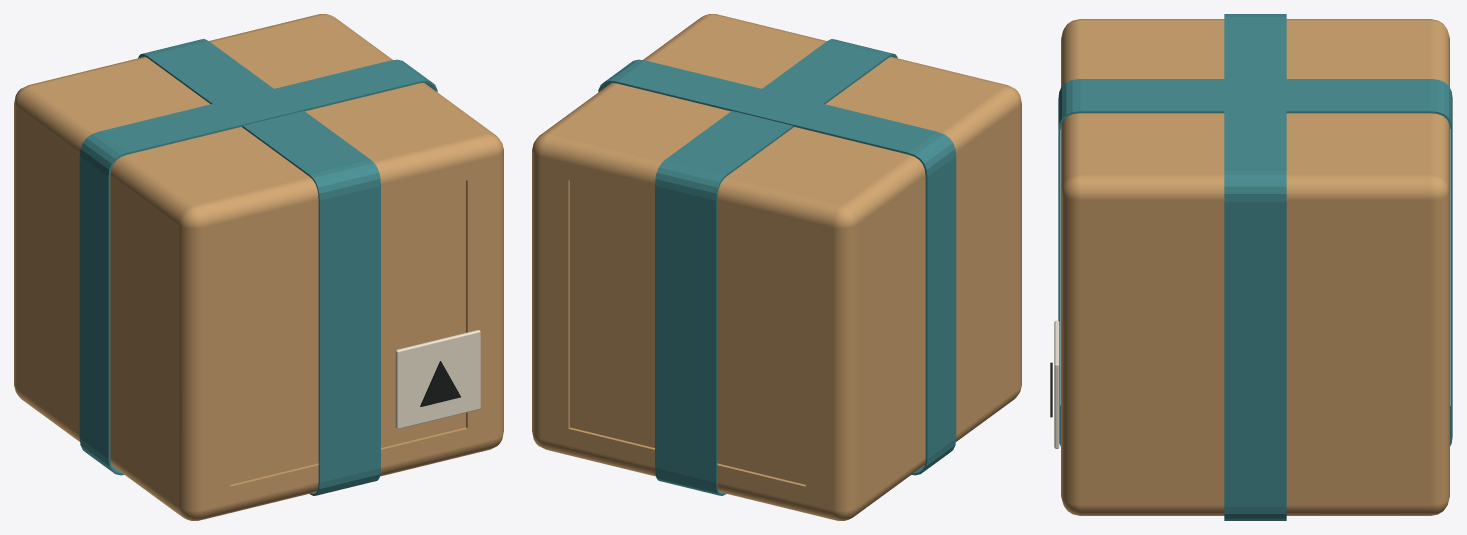
File: play-parcel-small-teal.glb
The picture shows the model from 3 angles, left to right: view 1: azimuth 30°, elevation 25°; view 2: azimuth 150°, elevation 25°; view 3: azimuth 270°, elevation 25°; orthographic projection. The views are drawn at different scales.
Visible parts, largest first — view 1: Parcel_Carton, Parcel_Tape_Continuous_Front_Back, Parcel_Tape_Continuous_Left_Right, Parcel_Paper_Label, Parcel_Label_Triangle; view 2: Parcel_Carton, Parcel_Tape_Continuous_Front_Back, Parcel_Tape_Continuous_Left_Right; view 3: Parcel_Carton, Parcel_Tape_Continuous_Left_Right, Parcel_Tape_Continuous_Front_Back, Parcel_Paper_Label.
Boxes of the visible parts, x1,y1,x2,y2 form: Parcel_Carton: [14, 14, 503, 520]; Parcel_Tape_Continuous_Front_Back: [138, 39, 380, 495]; Parcel_Tape_Continuous_Left_Right: [79, 59, 437, 475]; Parcel_Paper_Label: [395, 330, 480, 429]; Parcel_Label_Triangle: [420, 361, 460, 406]; Parcel_Carton: [532, 14, 1021, 520]; Parcel_Tape_Continuous_Front_Back: [655, 39, 897, 495]; Parcel_Tape_Continuous_Left_Right: [598, 59, 956, 475]; Parcel_Carton: [1061, 19, 1449, 515]; Parcel_Tape_Continuous_Left_Right: [1224, 14, 1286, 520]; Parcel_Tape_Continuous_Front_Back: [1058, 79, 1452, 446]; Parcel_Paper_Label: [1054, 320, 1059, 448].
Bounding box in the file's own units: 0.148 × 0.138 × 0.1449.
